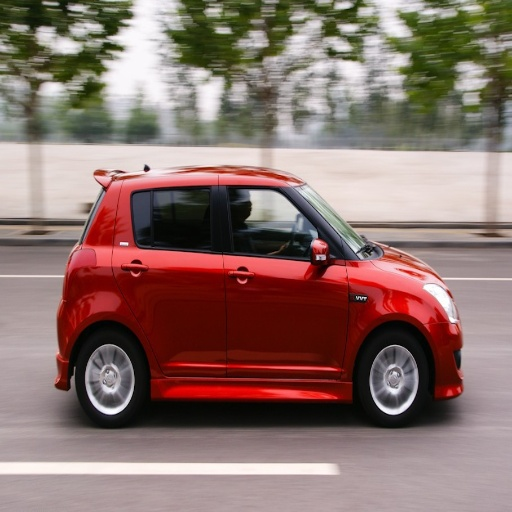front_right_door: (221, 170, 348, 374)
